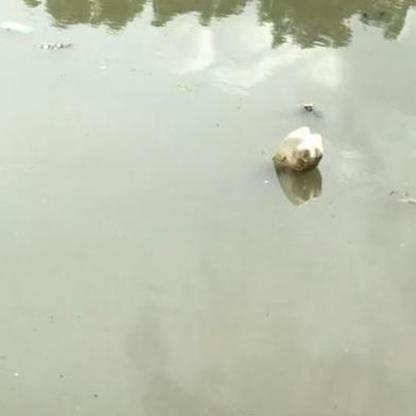plastic bottle: (272, 126, 323, 171)
